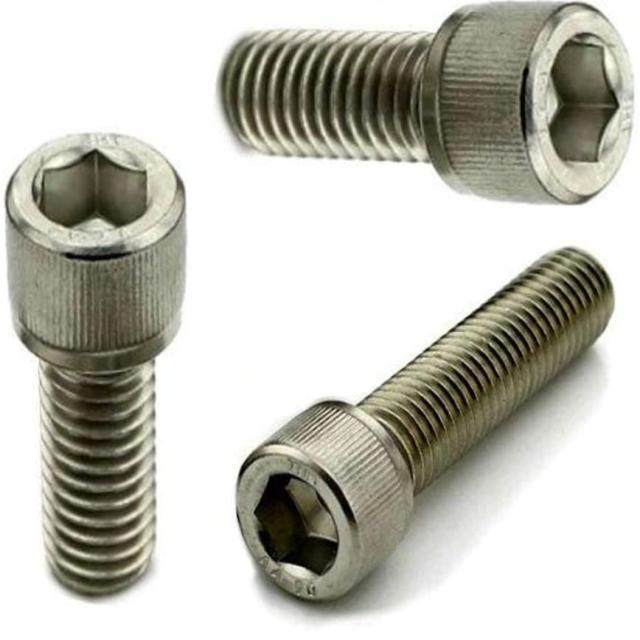allen: (512, 0, 640, 206), (5, 130, 194, 268), (235, 449, 366, 602)
